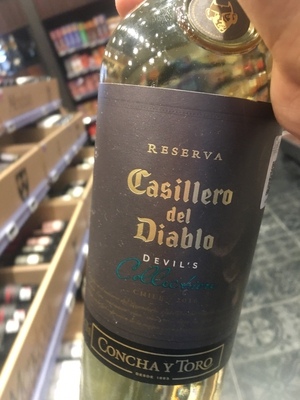casillero del diablo devils collection verde: (79, 21, 289, 400)
